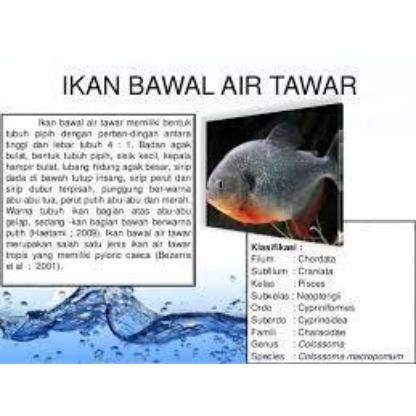ikan-pacu: (206, 119, 342, 221)
